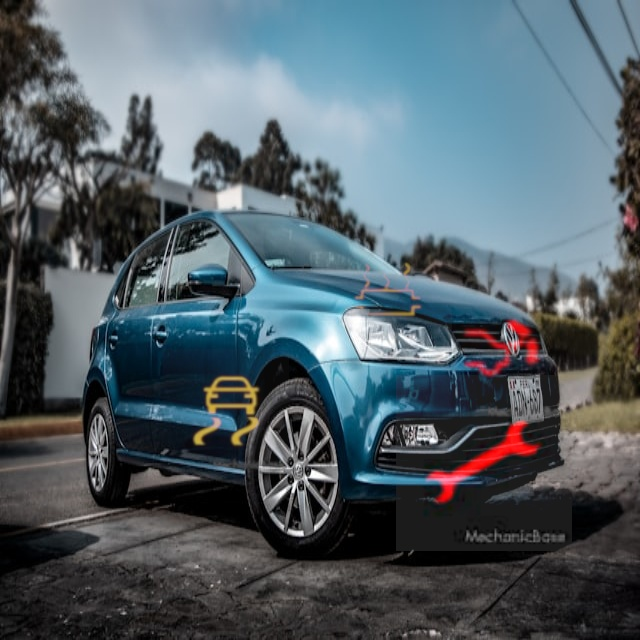symbol: (396, 375, 572, 551), (428, 274, 578, 424), (324, 226, 452, 354), (163, 349, 289, 475)
